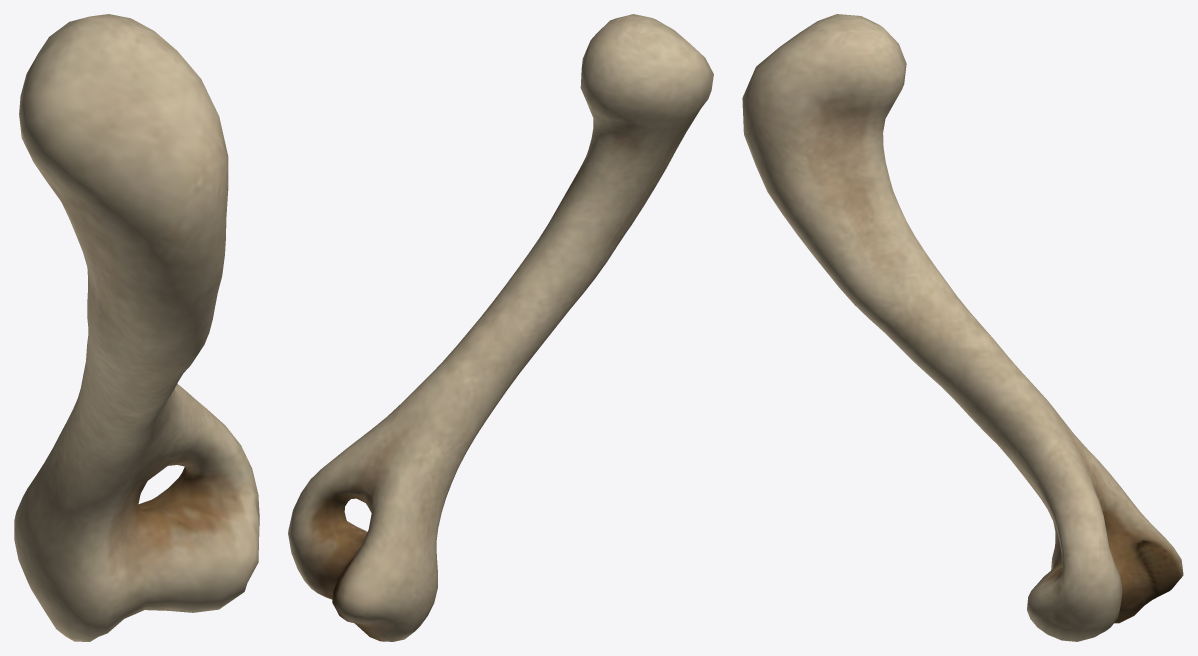
Rendered from Humerus.glb.
3 renders of one model, left to right at view 1: azimuth 30°, elevation 25°; view 2: azimuth 150°, elevation 25°; view 3: azimuth 270°, elevation 25°, orthographic. The views are drawn at different scales.
Visible parts, largest first — view 1: polySurface2; view 2: polySurface2; view 3: polySurface2.
Part boxes in pixels (x1,y1,x2,y2): polySurface2: (14,14,259,641); polySurface2: (288,14,713,641); polySurface2: (742,14,1183,641).
Bounding box in the file's own units: 58.93 × 109 × 79.56.
Materials: 1 (1 with a texture image).
